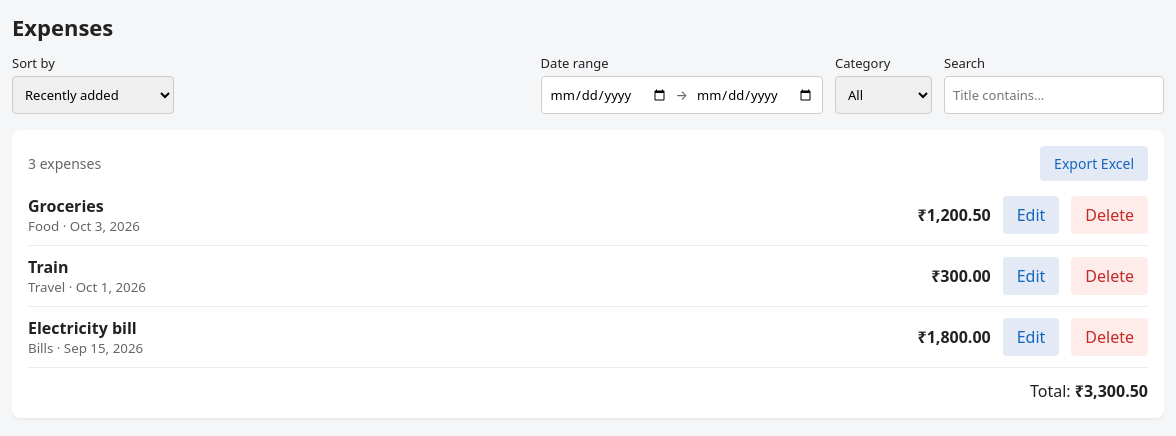
Test case: ExpenseListComponent › filters and sorting › hides the export links when nothing matches
The width and height of the screenshot is (1176, 436).
Type "nothing like this" into the search field labelled "Search".
click(1054, 95); type("nothing like this")  # box [944,76,1164,114]
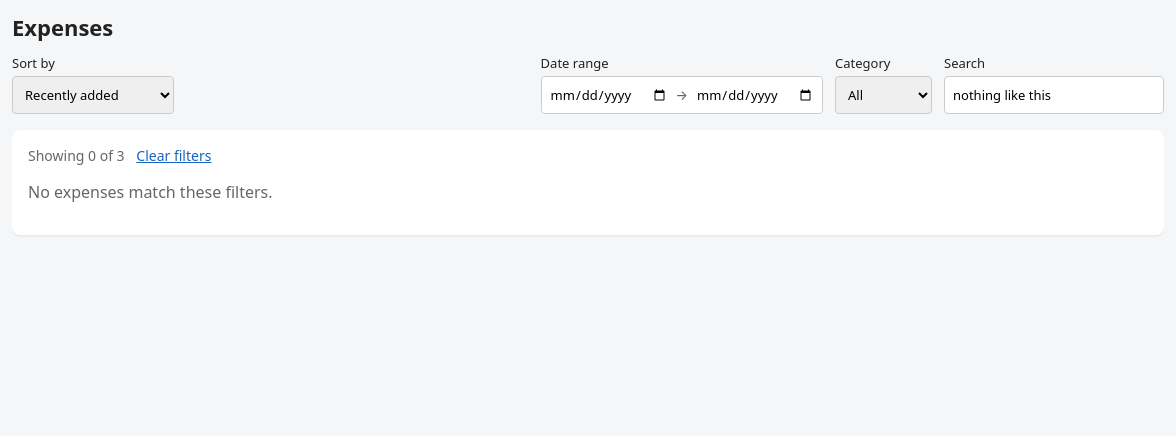
Expected: the element with class "export" is gone
